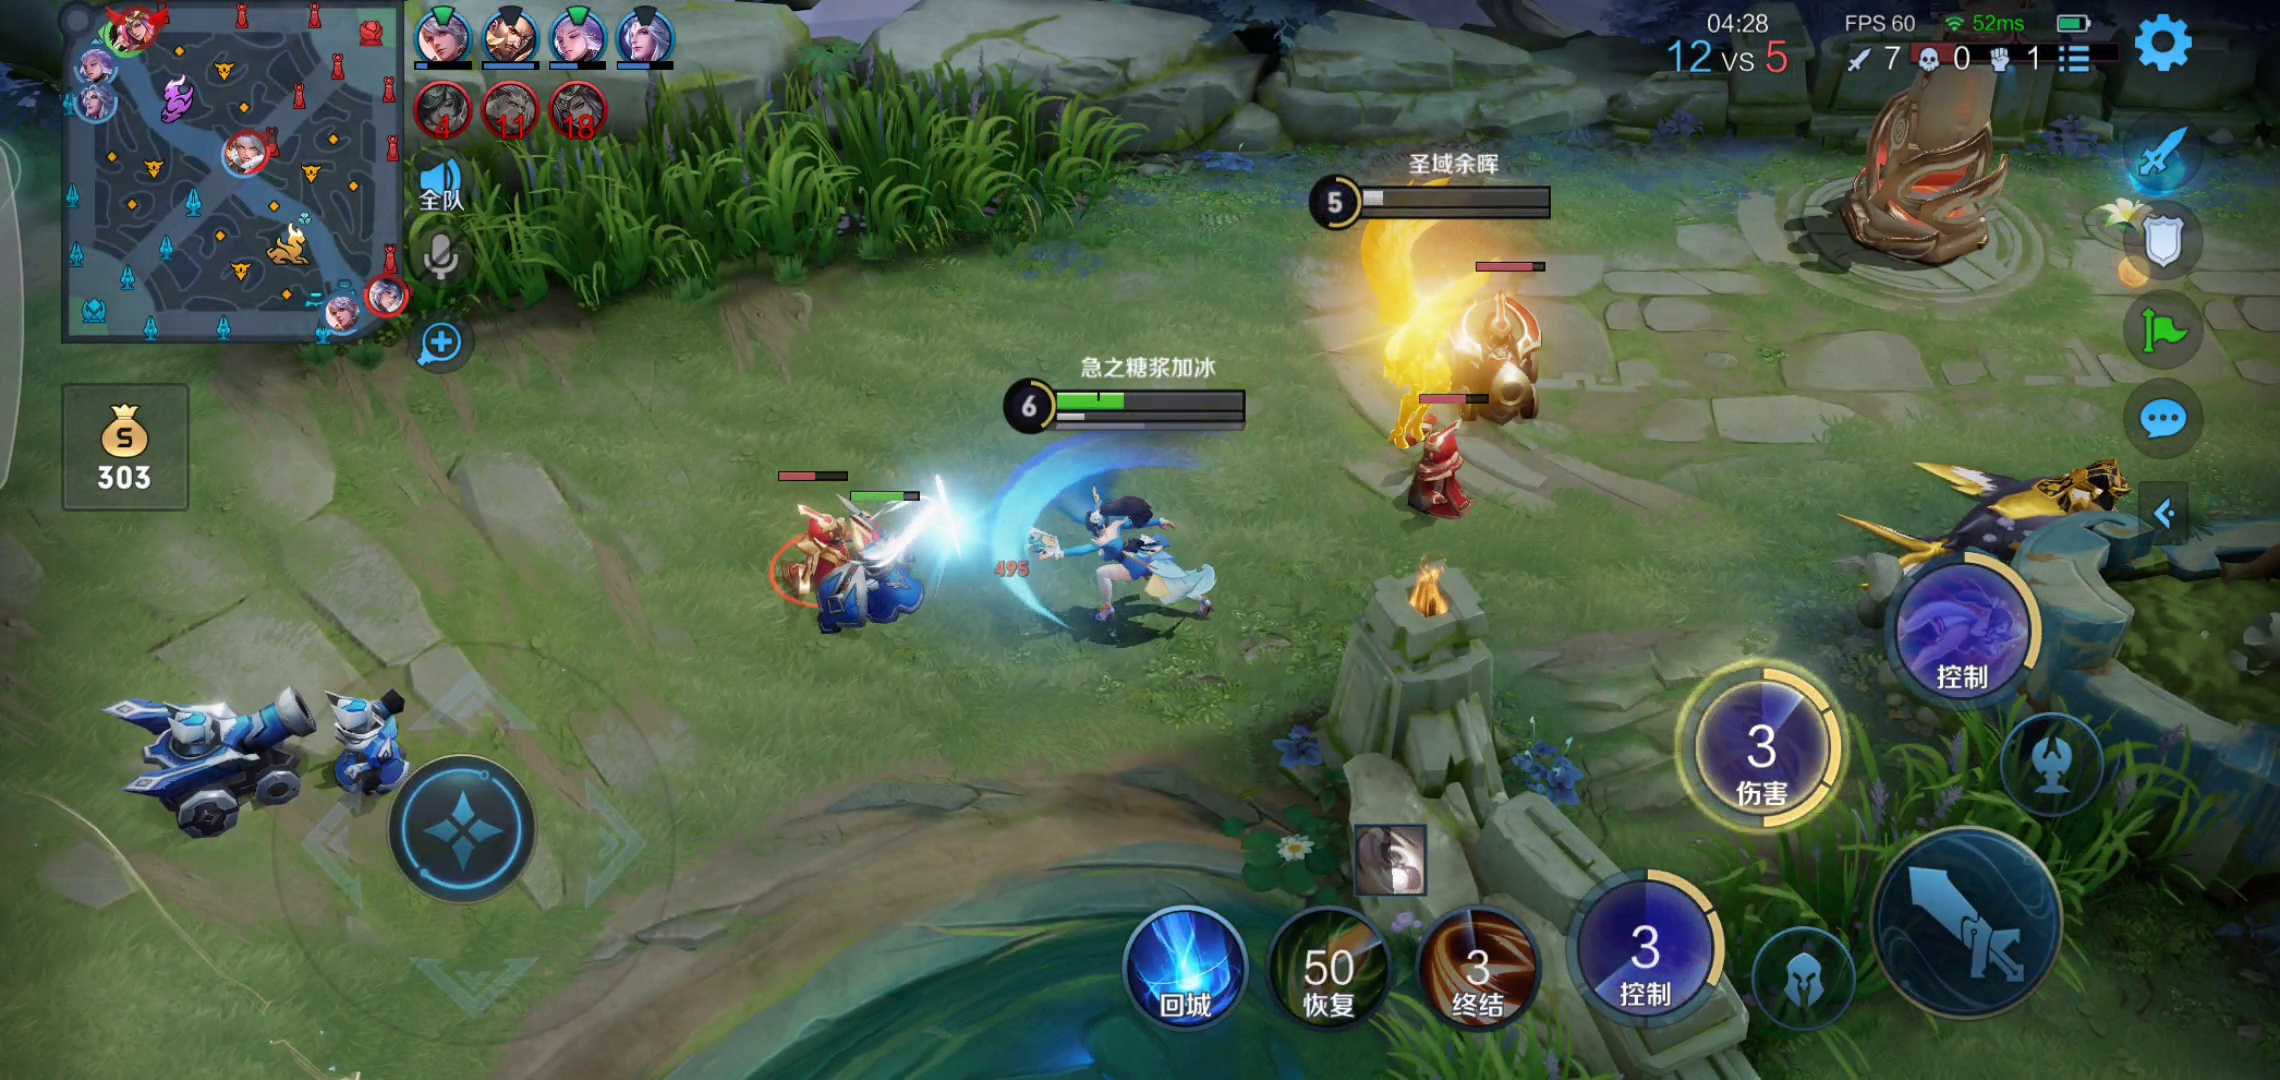grass: (433, 94, 1115, 288), (1690, 778, 2156, 986)
hero: (1018, 490, 1229, 645), (1330, 230, 1461, 413)
soldier: (99, 664, 300, 830), (1458, 278, 1565, 427), (307, 685, 423, 795), (839, 538, 928, 660), (1394, 422, 1492, 515), (787, 509, 855, 596)
tower: (1852, 13, 2030, 270)
